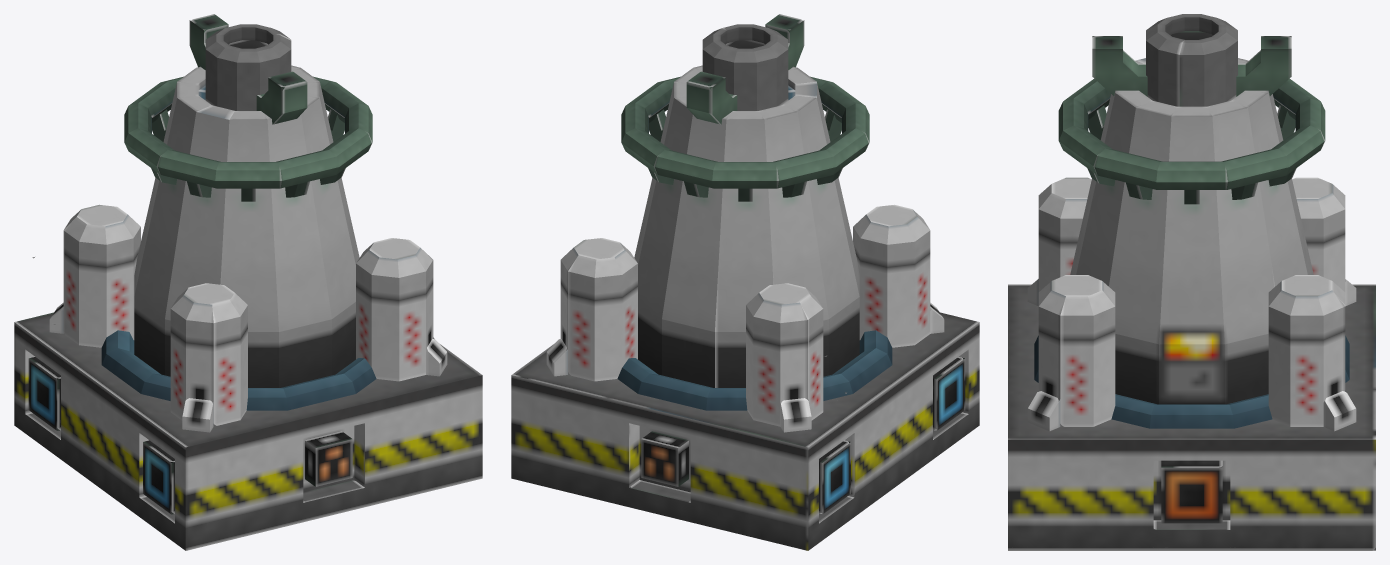
The model's file is power_furnace.obj.
The picture shows the model from 3 angles, left to right: view 1: azimuth 30°, elevation 25°; view 2: azimuth 150°, elevation 25°; view 3: azimuth 270°, elevation 25°; orthographic projection. The views are drawn at different scales.
Parts seen in each view (by area): view 1: cube; view 2: cube; view 3: cube.
Part boxes in pixels (box(x1,y1,x2,y2)): cube: box(14, 14, 482, 550); cube: box(511, 14, 979, 550); cube: box(1008, 14, 1375, 550).
Bounding box in the file's own units: 3 × 4 × 3.
